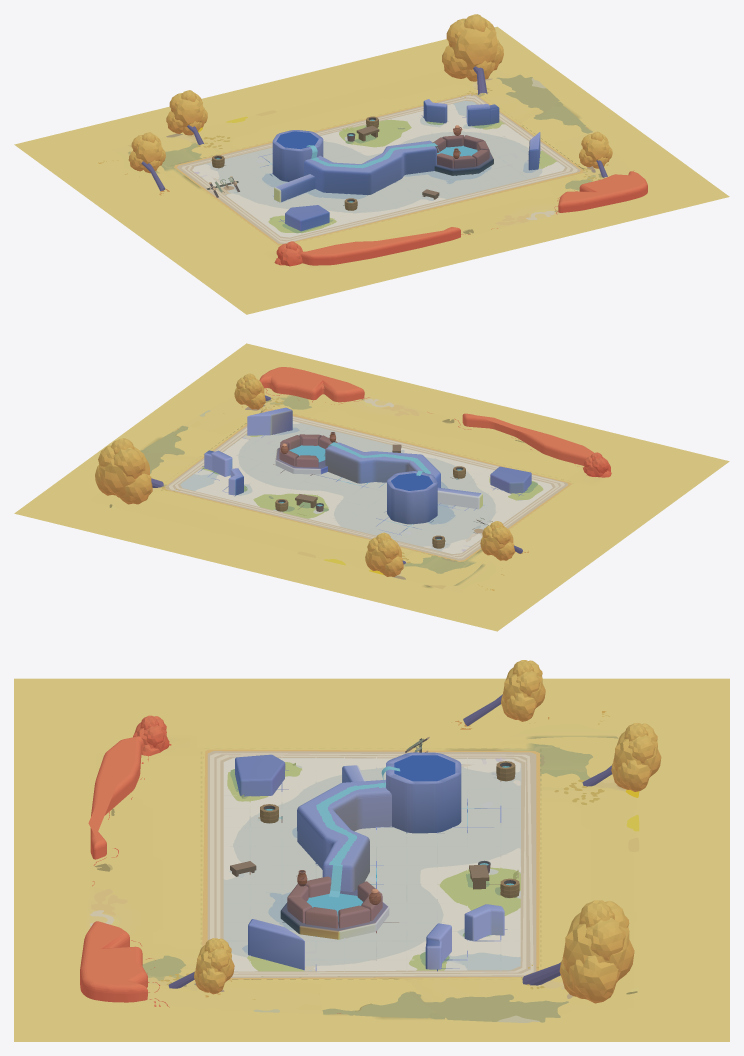
Rendered from plaza.glb.
The picture shows the model from 3 angles, top to bottom: view 1: azimuth 30°, elevation 25°; view 2: azimuth 150°, elevation 25°; view 3: azimuth 270°, elevation 25°; orthographic projection. The views are drawn at different scales.
Visible parts, largest first — view 1: GROUND, GROUND_SHAPES, KERB, AQUEDUCT_channel, TREE_tree_ne, BUSH_0, BUSH_1, GROUND_JOINTS, TREE_post_n, AQUEDUCT_tower, TREE_tree_w, TREE_tree_se (+8 smaller); view 2: GROUND, GROUND_SHAPES, KERB, TREE_tree_ne, AQUEDUCT_channel, BUSH_1, GROUND_JOINTS, BUSH_0, AQUEDUCT_tower, TREE_post_n, TREE_tree_w, ROCK_SE (+7 smaller); view 3: GROUND, GROUND_SHAPES, KERB, TREE_tree_ne, AQUEDUCT_channel, BUSH_1, GROUND_JOINTS, AQUEDUCT_tower, BUSH_0, TREE_post_n, TREE_tree_w, ROCK_SE (+10 smaller).
Boxes of the visible parts, <box> form: GROUND: <box>14,26,729,314</box>; GROUND_SHAPES: <box>111,74,631,237</box>; KERB: <box>174,93,583,245</box>; AQUEDUCT_channel: <box>304,140,436,195</box>; TREE_tree_ne: <box>442,14,503,94</box>; BUSH_0: <box>300,227,460,265</box>; BUSH_1: <box>558,171,647,212</box>; GROUND_JOINTS: <box>192,101,559,234</box>; TREE_post_n: <box>166,90,207,144</box>; AQUEDUCT_tower: <box>272,130,323,181</box>; TREE_tree_w: <box>128,132,165,191</box>; TREE_tree_se: <box>579,131,612,177</box>; GROUND: <box>14,343,729,631</box>; GROUND_SHAPES: <box>109,388,552,593</box>; KERB: <box>163,409,571,561</box>; TREE_tree_ne: <box>95,438,163,504</box>; AQUEDUCT_channel: <box>325,442,440,487</box>; BUSH_1: <box>259,367,364,402</box>; GROUND_JOINTS: <box>180,425,547,553</box>; BUSH_0: <box>462,413,593,465</box>; AQUEDUCT_tower: <box>387,471,437,524</box>; TREE_post_n: <box>365,532,405,576</box>; TREE_tree_w: <box>480,521,522,560</box>; ROCK_SE: <box>247,407,292,435</box>; GROUND: <box>14,678,729,1041</box>; GROUND_SHAPES: <box>90,723,639,1022</box>; KERB: <box>202,749,540,979</box>; TREE_tree_ne: <box>522,900,634,1003</box>; AQUEDUCT_channel: <box>297,780,391,891</box>; BUSH_1: <box>80,921,147,1002</box>; GROUND_JOINTS: <box>224,757,520,971</box>; AQUEDUCT_tower: <box>386,752,461,833</box>; BUSH_0: <box>88,736,143,859</box>; TREE_post_n: <box>582,723,661,791</box>; TREE_tree_w: <box>463,660,545,726</box>; ROCK_SE: <box>248,919,304,970</box>.
Bounding box in the file's own units: 84 × 12.08 × 70.
